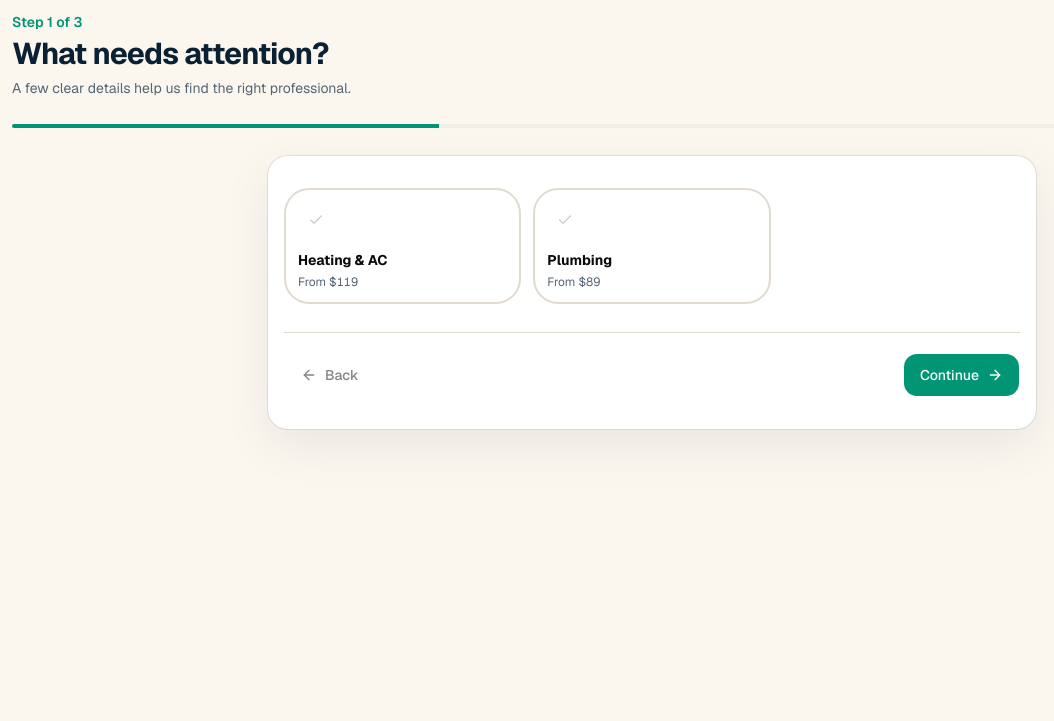
request form › requires a description of at least 10 characters
This screenshot has width=1054, height=721.
Click the button "Heating & AC From $119" at (403, 246), box [284,188,521,304]
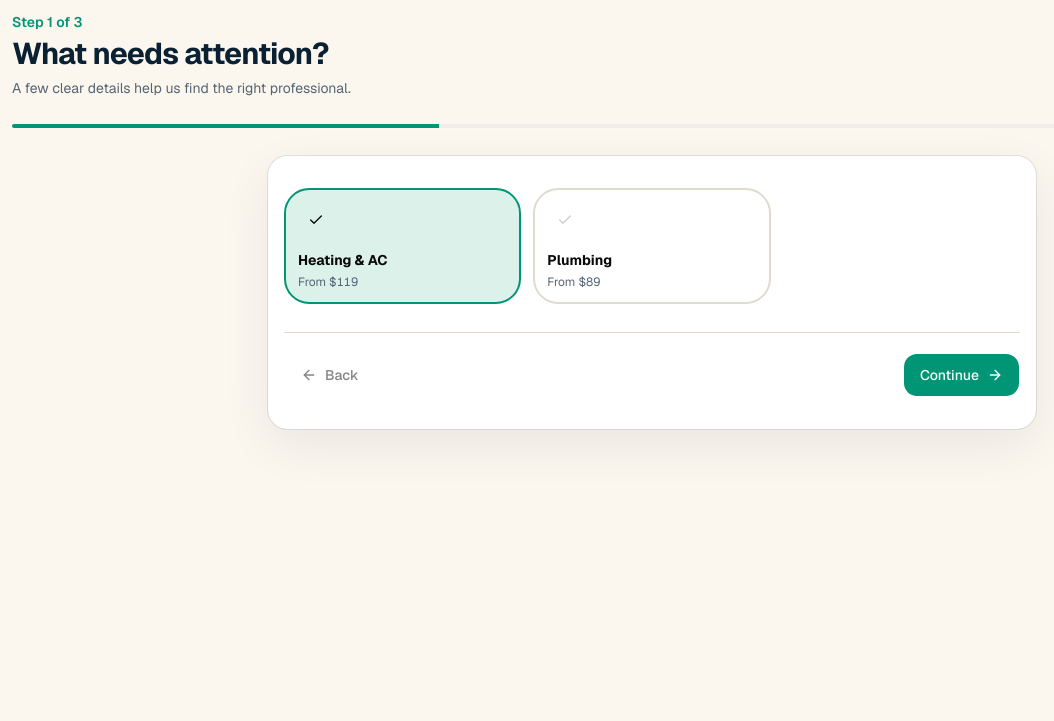
Click the button "Continue" at (961, 375), box [903,353,1020,397]
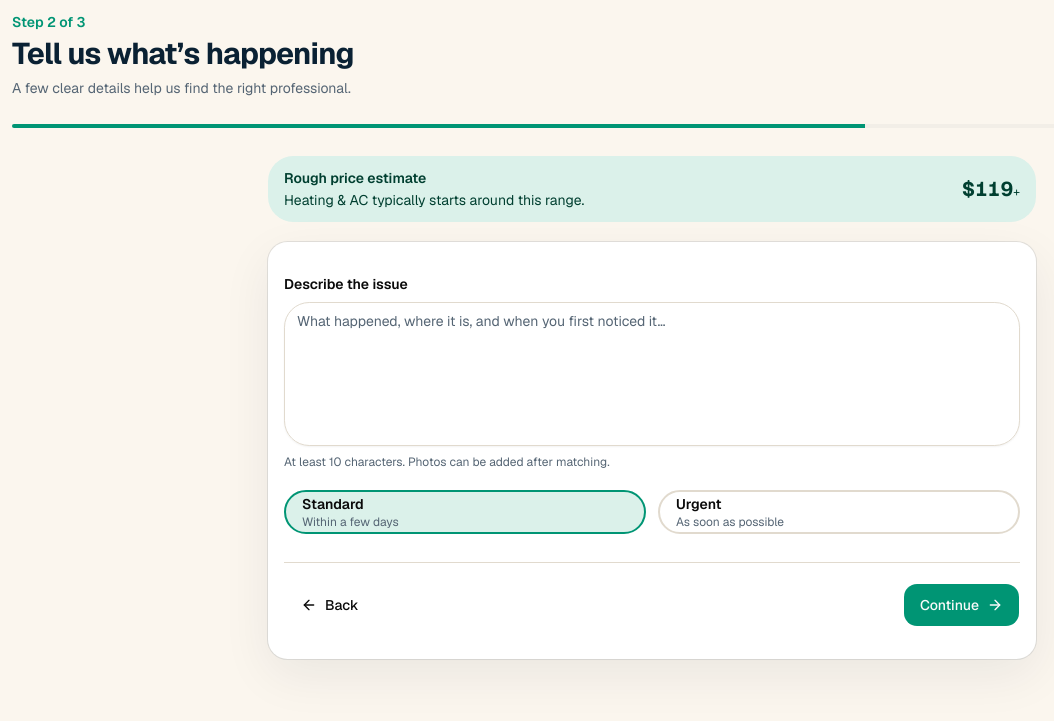
Expected: the heading "Tell us what’s happening" is shown, [12,36,354,72]
Type "too short" into the text box labelled "Describe the issue" at (652, 374), box [284,302,1020,446]
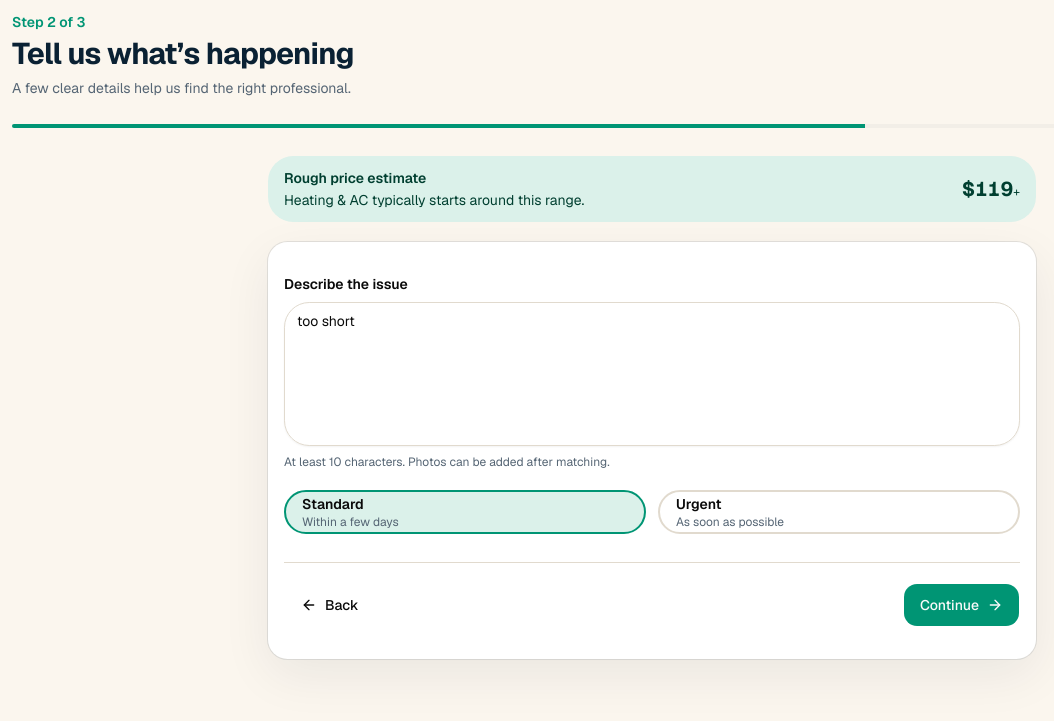
Click the button "Continue" at (961, 605), box [903,583,1020,627]
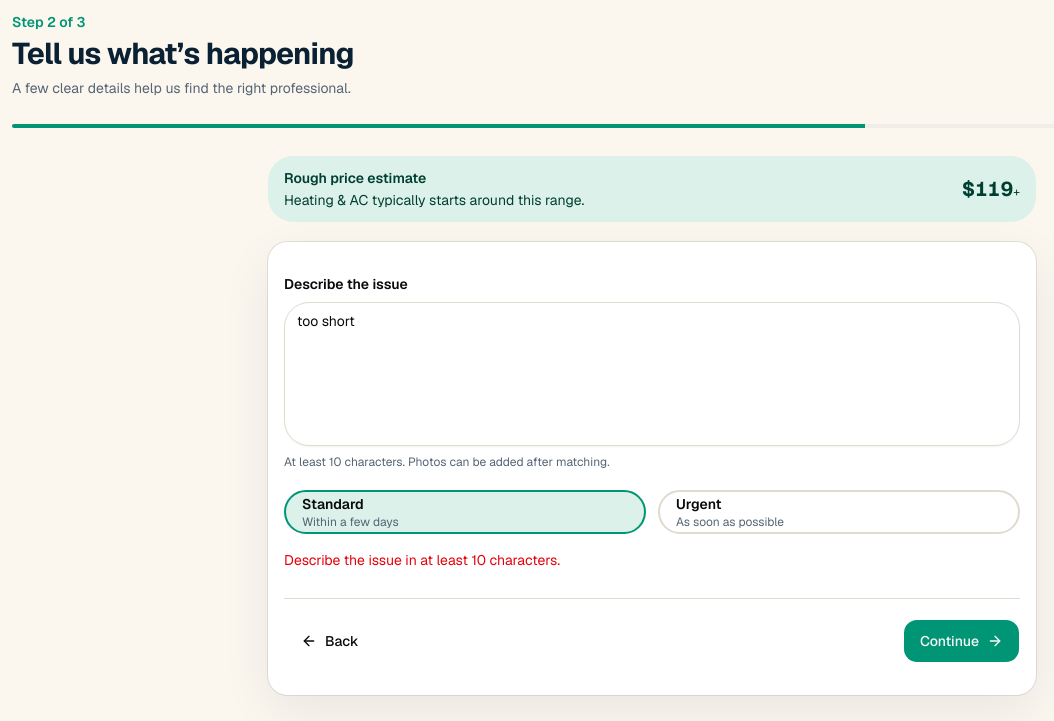
Expected: the message reads "Describe the issue in at least 10 characters.", [284,551,560,569]
